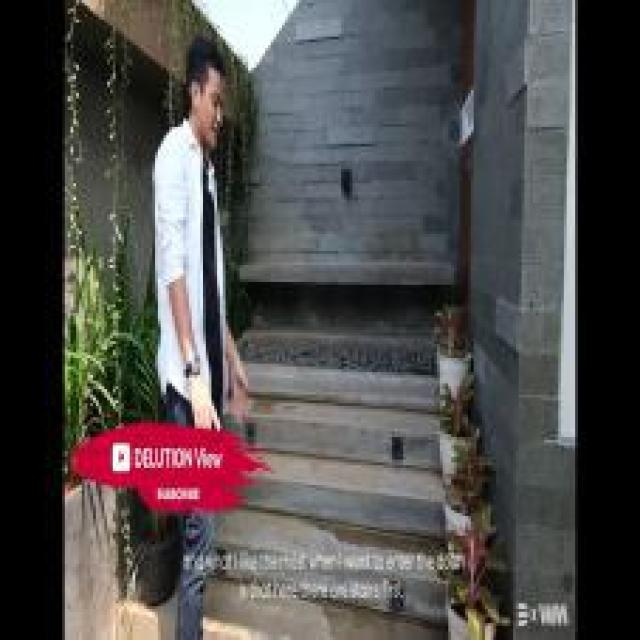upstair: (215, 365, 458, 633)
